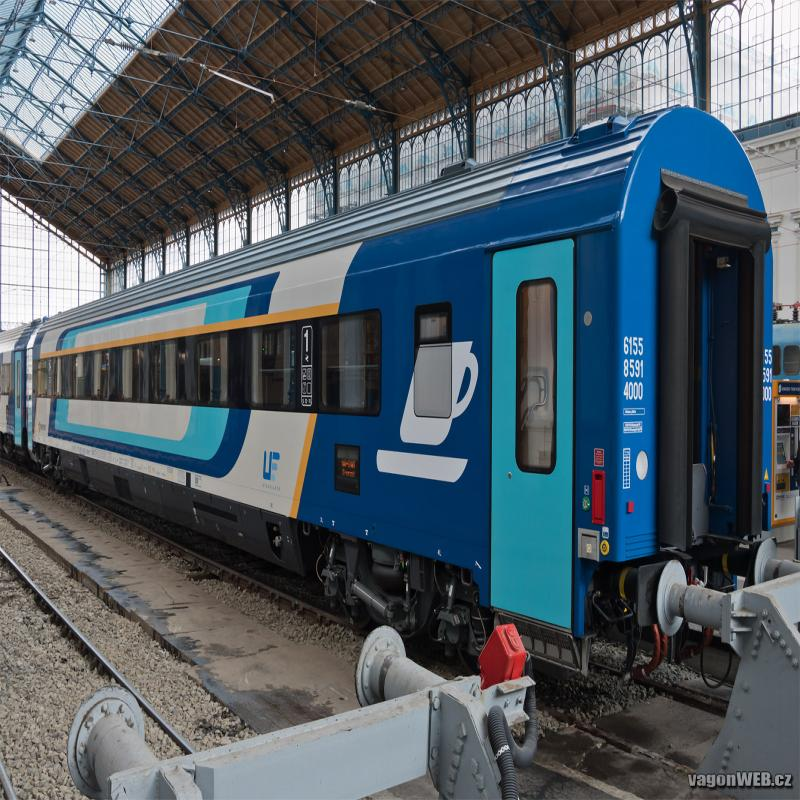train: (25, 105, 775, 687)
